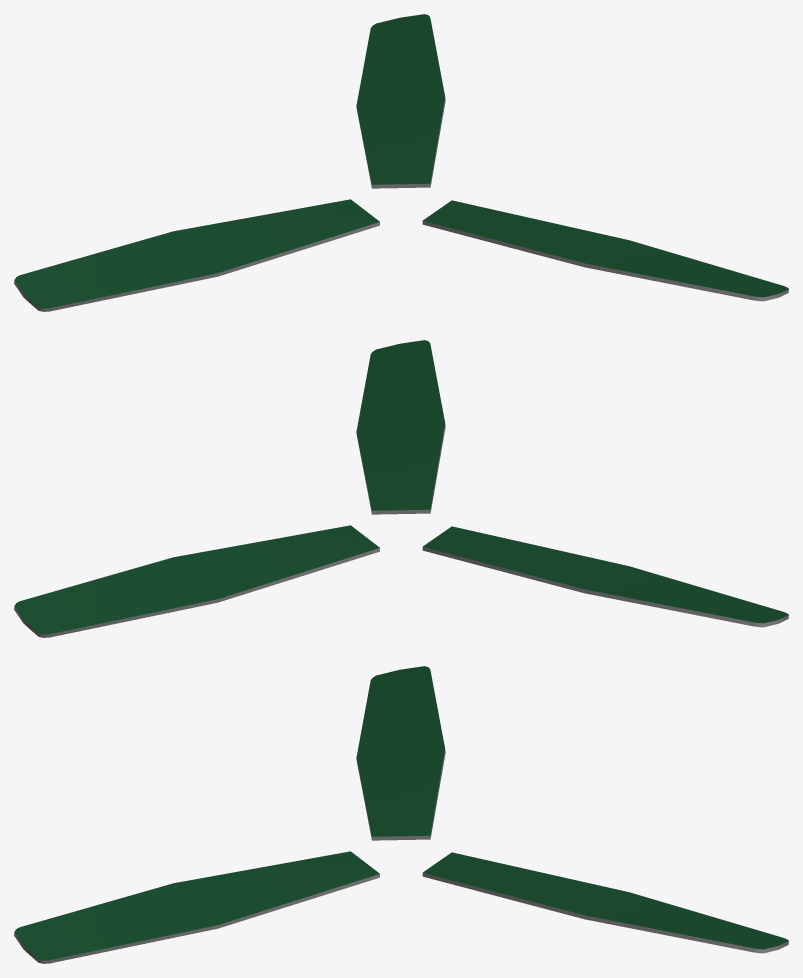
Rendered from lopasti_coll.FBX.
3 views of the same model, one above another, from view 1: azimuth 30°, elevation 25°; view 2: azimuth 150°, elevation 25°; view 3: azimuth 270°, elevation 25° (orthographic).
Parts seen in each view (by area): view 1: lopasti_coll; view 2: lopasti_coll; view 3: lopasti_coll.
Boxes of the visible parts, bbox=[...] form: lopasti_coll: bbox=[14, 14, 788, 311]; lopasti_coll: bbox=[14, 340, 788, 637]; lopasti_coll: bbox=[14, 666, 788, 963].
Size of the model in its own units: 550 by 13.48 by 631.
